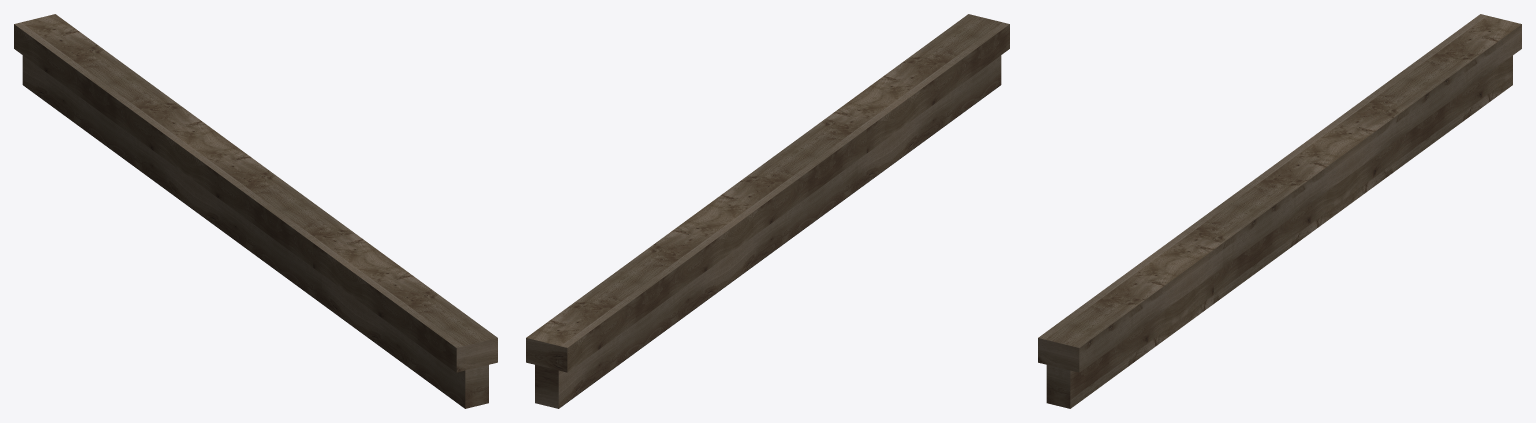
The model's file is SM_Ssang_Dae_Bang_B.fbx.
3 views of the same model, side by side, from view 1: azimuth 30°, elevation 25°; view 2: azimuth 150°, elevation 25°; view 3: azimuth 330°, elevation 25° (orthographic).
Visible parts, largest first — view 1: SM_Ssang_Dae_Bang_B; view 2: SM_Ssang_Dae_Bang_B; view 3: SM_Ssang_Dae_Bang_B.
Boxes of the visible parts, x1=… form: SM_Ssang_Dae_Bang_B: x1=14, y1=14, x2=497, y2=408; SM_Ssang_Dae_Bang_B: x1=526, y1=14, x2=1009, y2=408; SM_Ssang_Dae_Bang_B: x1=1038, y1=14, x2=1521, y2=408.
Bounding box in the file's own units: 53.84 × 78.36 × 995.
